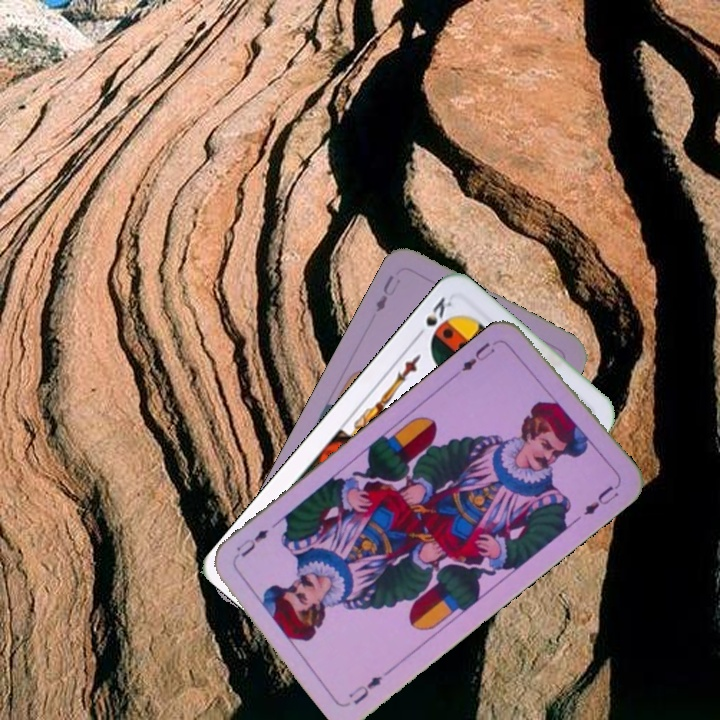EU: (458, 335, 504, 374), (344, 671, 385, 707), (371, 270, 403, 315)
SK: (411, 292, 455, 342)
